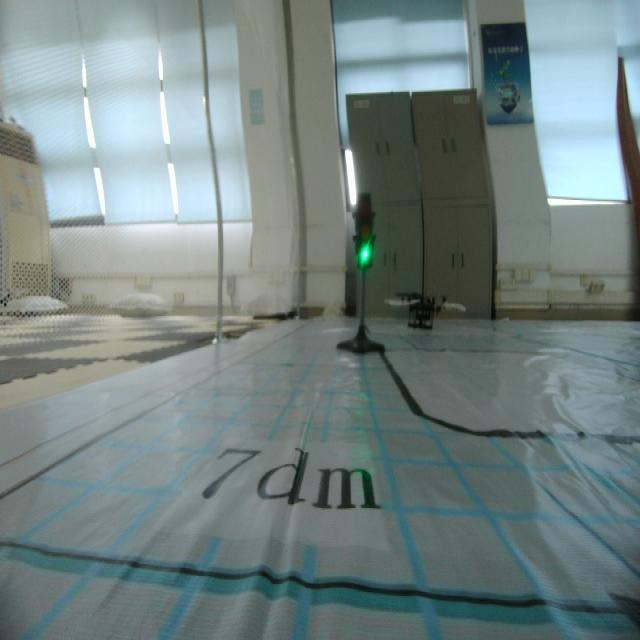green: (342, 187, 377, 276)
